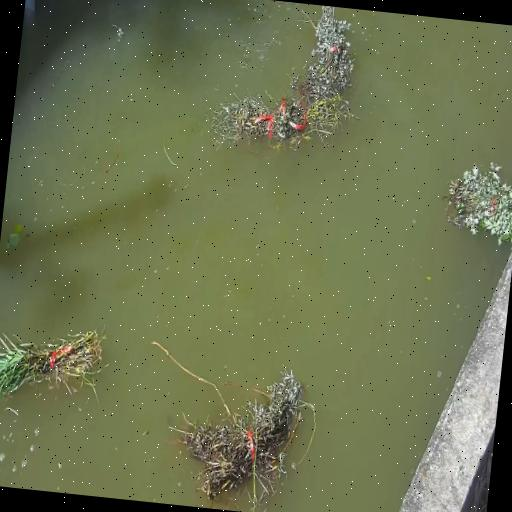twig: (139, 345, 314, 512), (208, 80, 356, 159), (0, 313, 111, 409), (439, 156, 512, 249), (298, 4, 360, 103)
